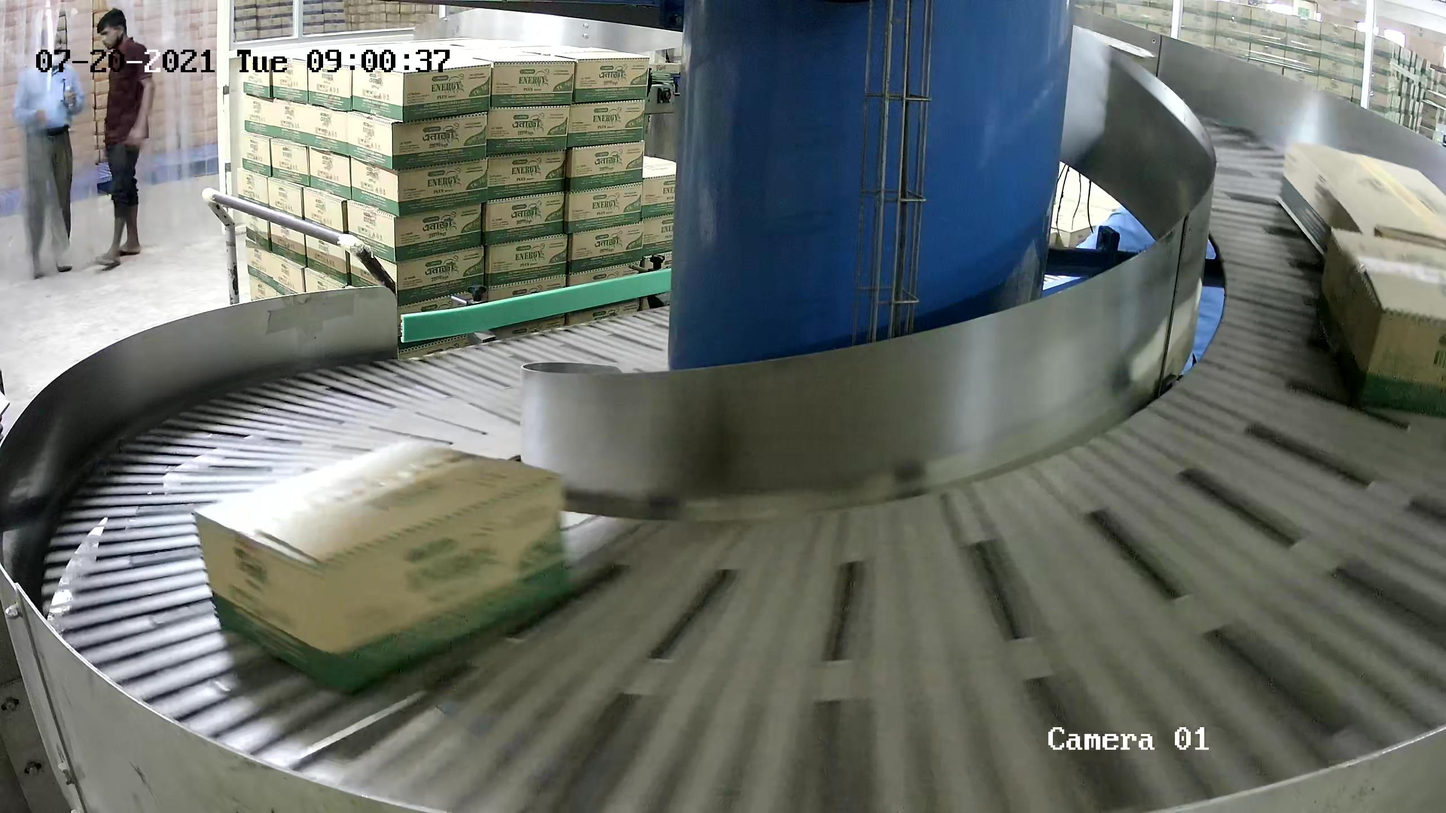Box: (191, 439, 570, 695), (1315, 226, 1446, 411), (1273, 138, 1446, 258)
